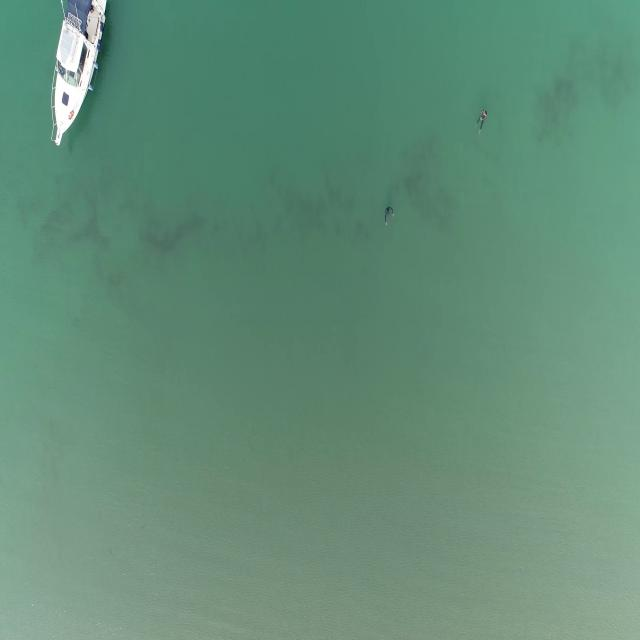boat: (46, 1, 106, 150)
person: (476, 112, 488, 140), (381, 207, 395, 230)
